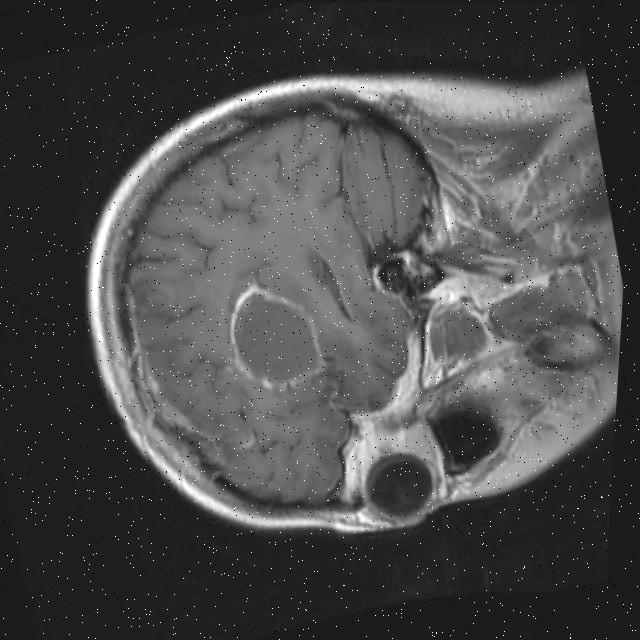Glioma: (215, 267, 336, 399)
